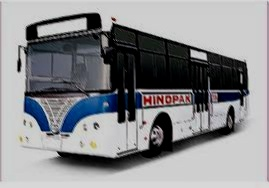bus: (17, 12, 249, 160)
